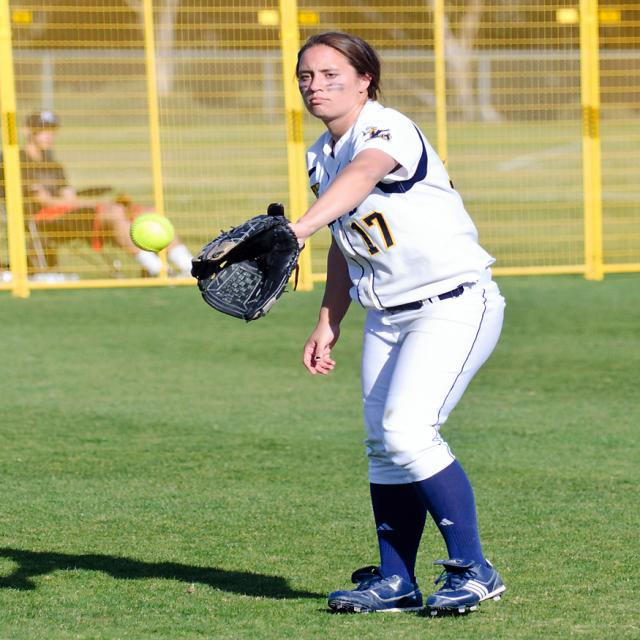Tennis ball: (128, 214, 173, 254)
